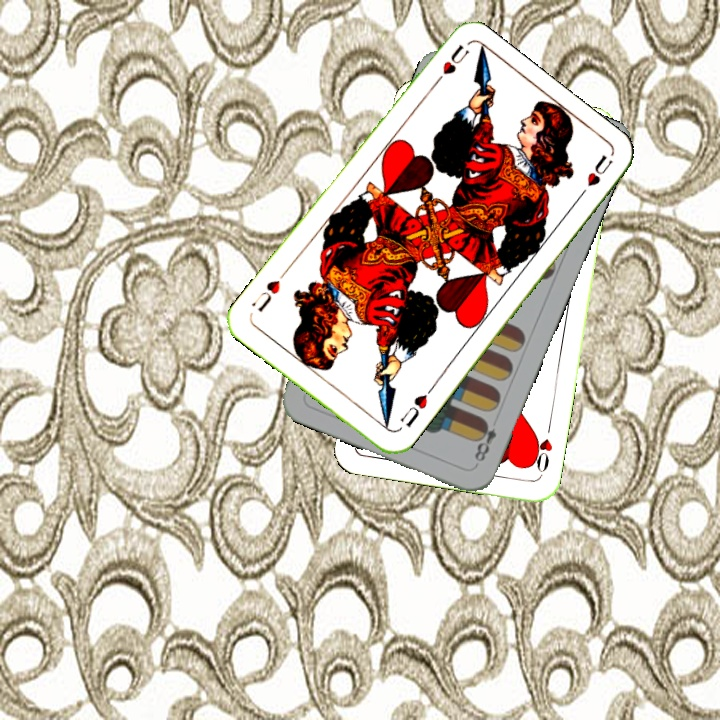E8: (470, 415, 500, 468)
HO: (527, 419, 555, 478)
HU: (428, 40, 473, 91), (396, 383, 436, 431)
